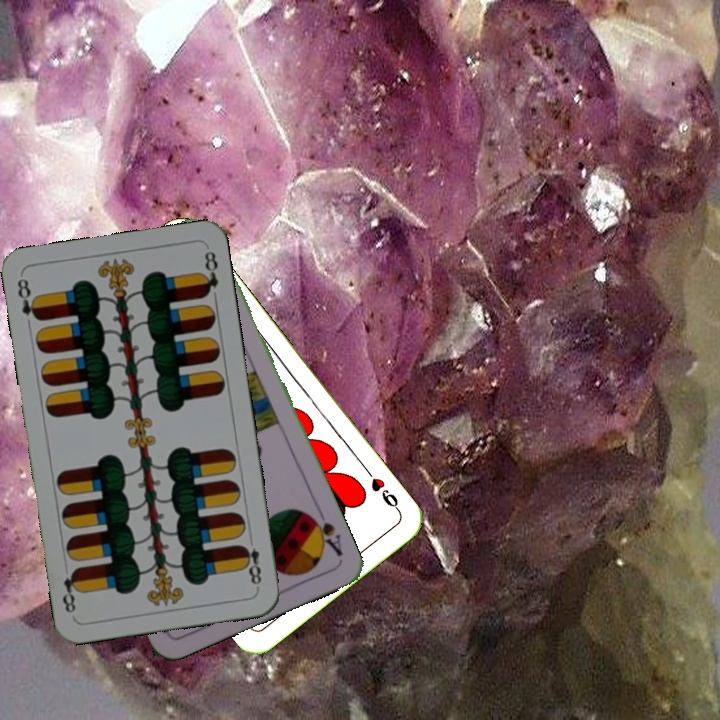E8: (13, 274, 43, 324), (237, 541, 264, 591)
H9: (362, 465, 403, 515)
SA: (304, 505, 345, 559)
